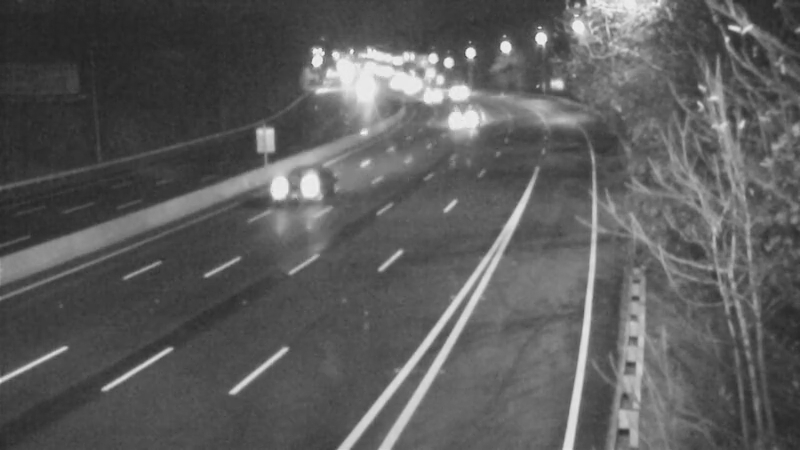vehicle: (263, 148, 343, 228), (426, 65, 476, 115), (402, 72, 452, 122), (442, 97, 492, 147), (337, 64, 387, 114)
